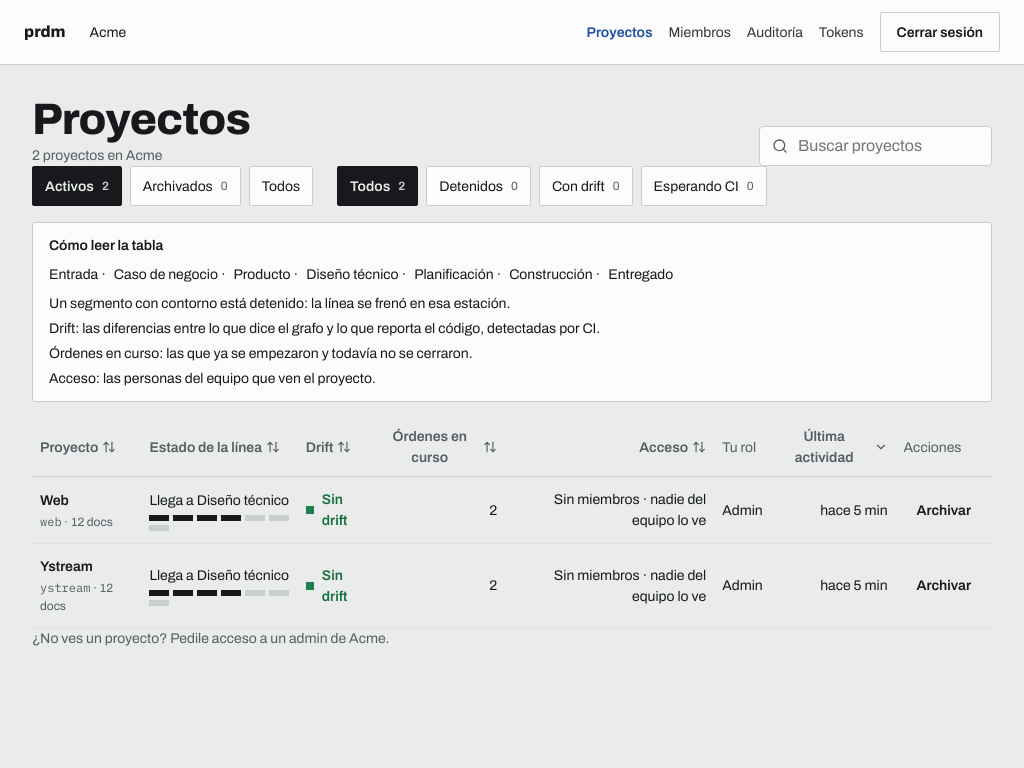
ProjectsDashboard › filters by the search field
The image size is (1024, 768).
Expected: the text "Web" is shown, left=40, top=490, right=69, bottom=510
Type "ystream" into the search field labelled "Buscar proyectos" at coordinates (890, 146), box left=796, top=133, right=983, bottom=159
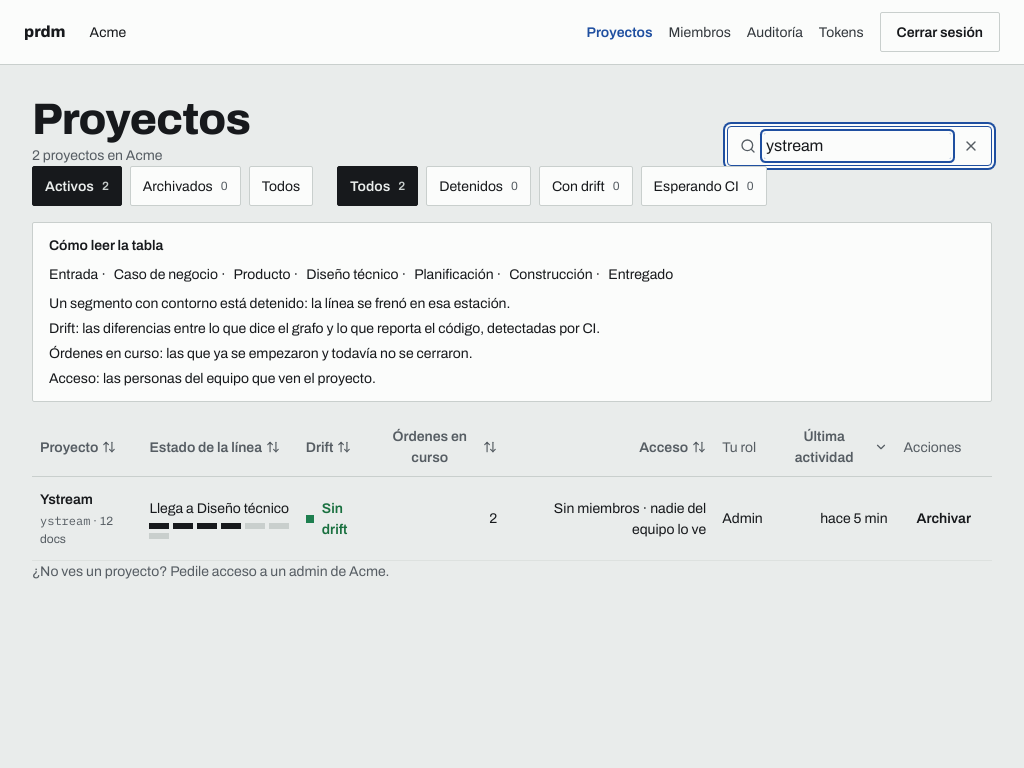
Expected: the text "Ystream" is shown, left=40, top=489, right=93, bottom=510
Expected: the link "Web" is gone
